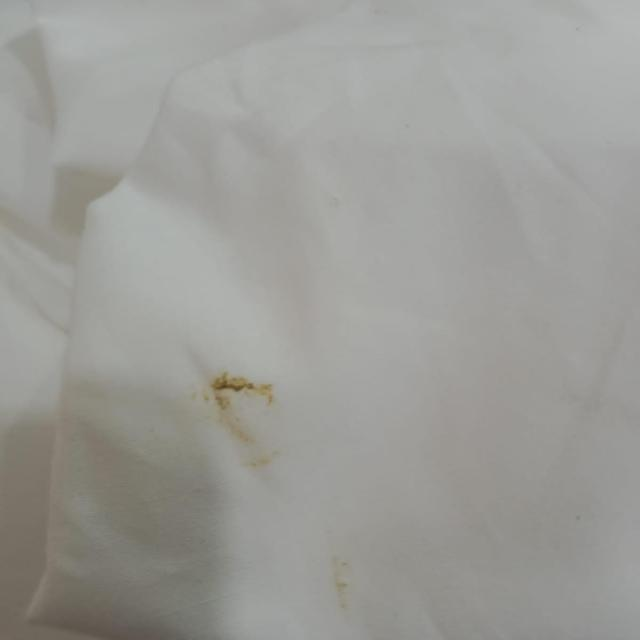stain: (188, 362, 298, 478), (311, 543, 370, 620)
